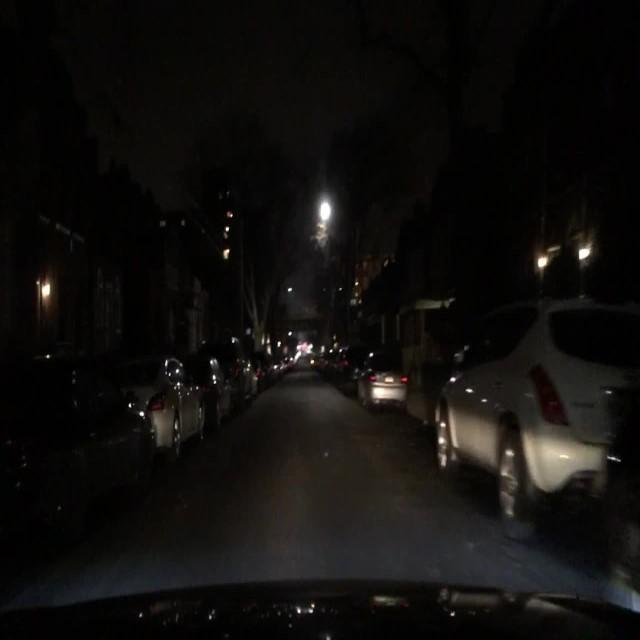single accident: (402, 273, 640, 549)
